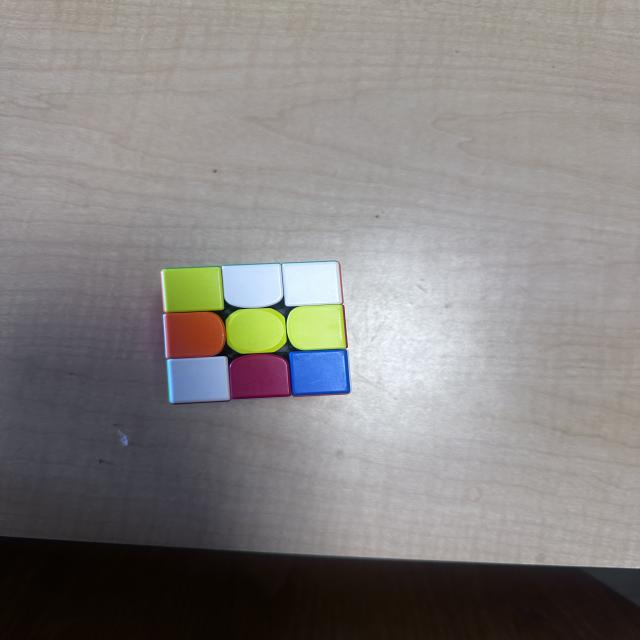sticker: (162, 311, 228, 361), (166, 356, 232, 405), (160, 266, 225, 315), (227, 353, 292, 402), (280, 260, 344, 309), (220, 262, 285, 310), (286, 304, 348, 352), (289, 350, 351, 398), (225, 308, 288, 355)
